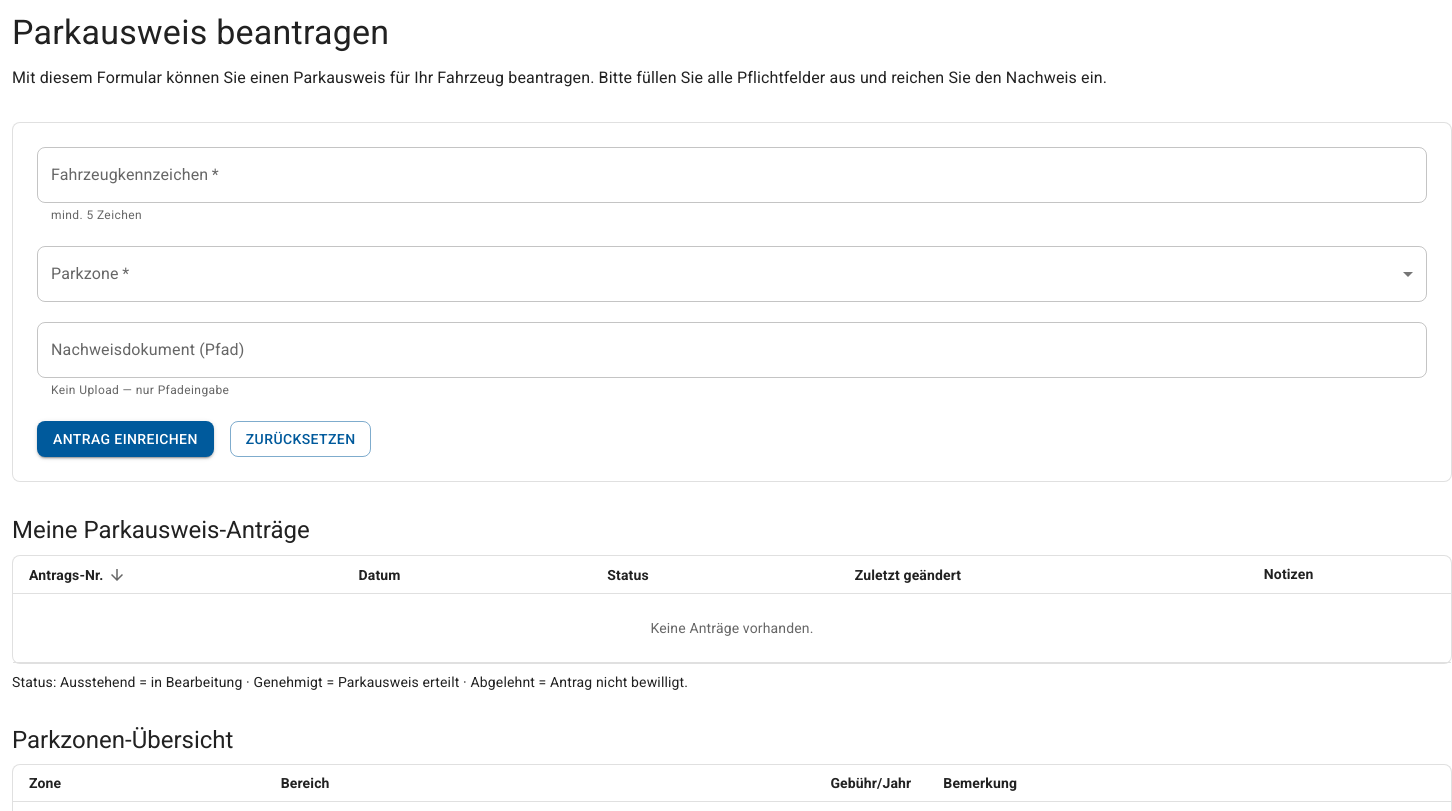
ParkingPermitPage › submits a normalised application and reports the application number
Type " m-ab 123 " into the field labelled "Fahrzeugkennzeichen *" at (732, 175), box [37,147,1427,203]
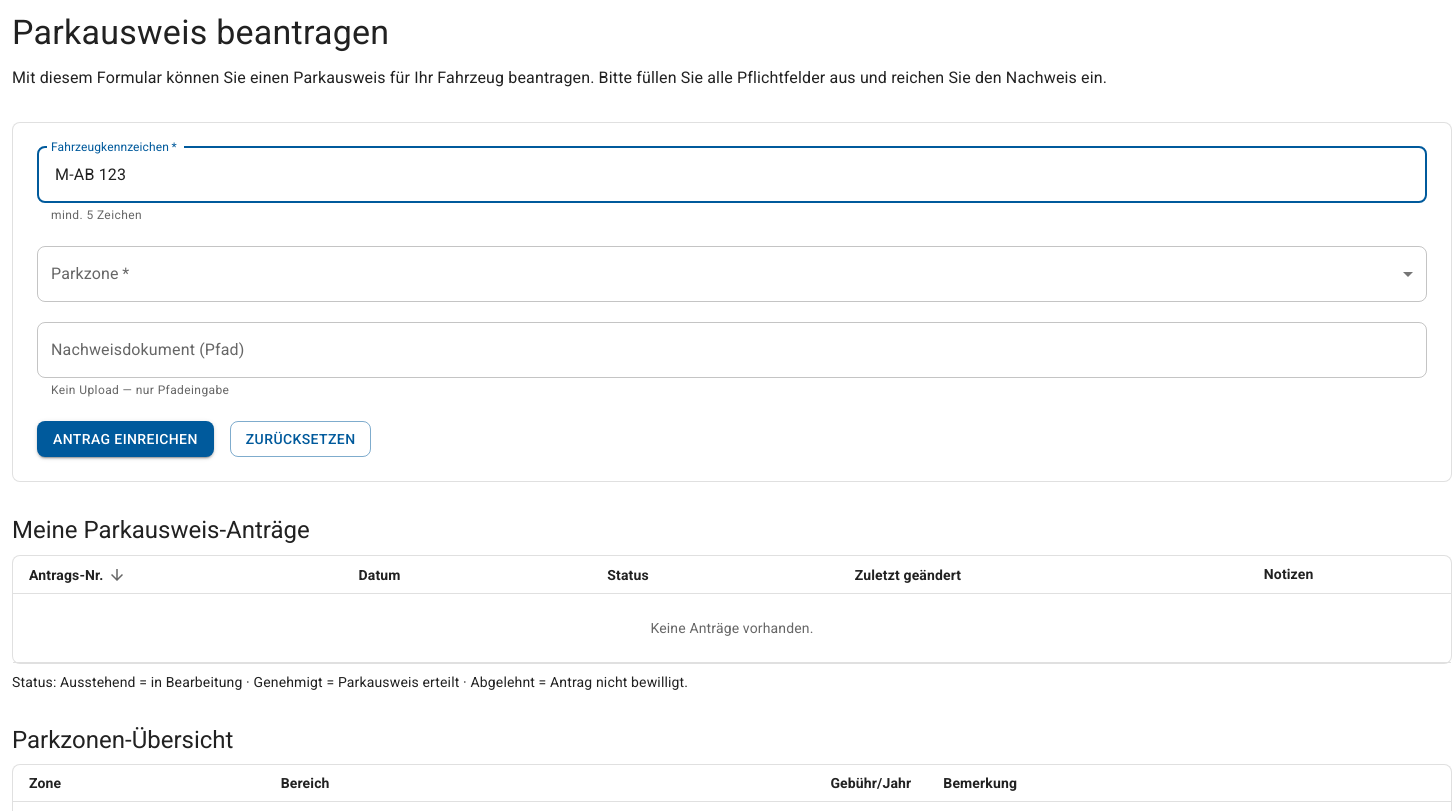
Click the dropdown named "Parkzone" at (732, 274), box [37,246,1427,302]
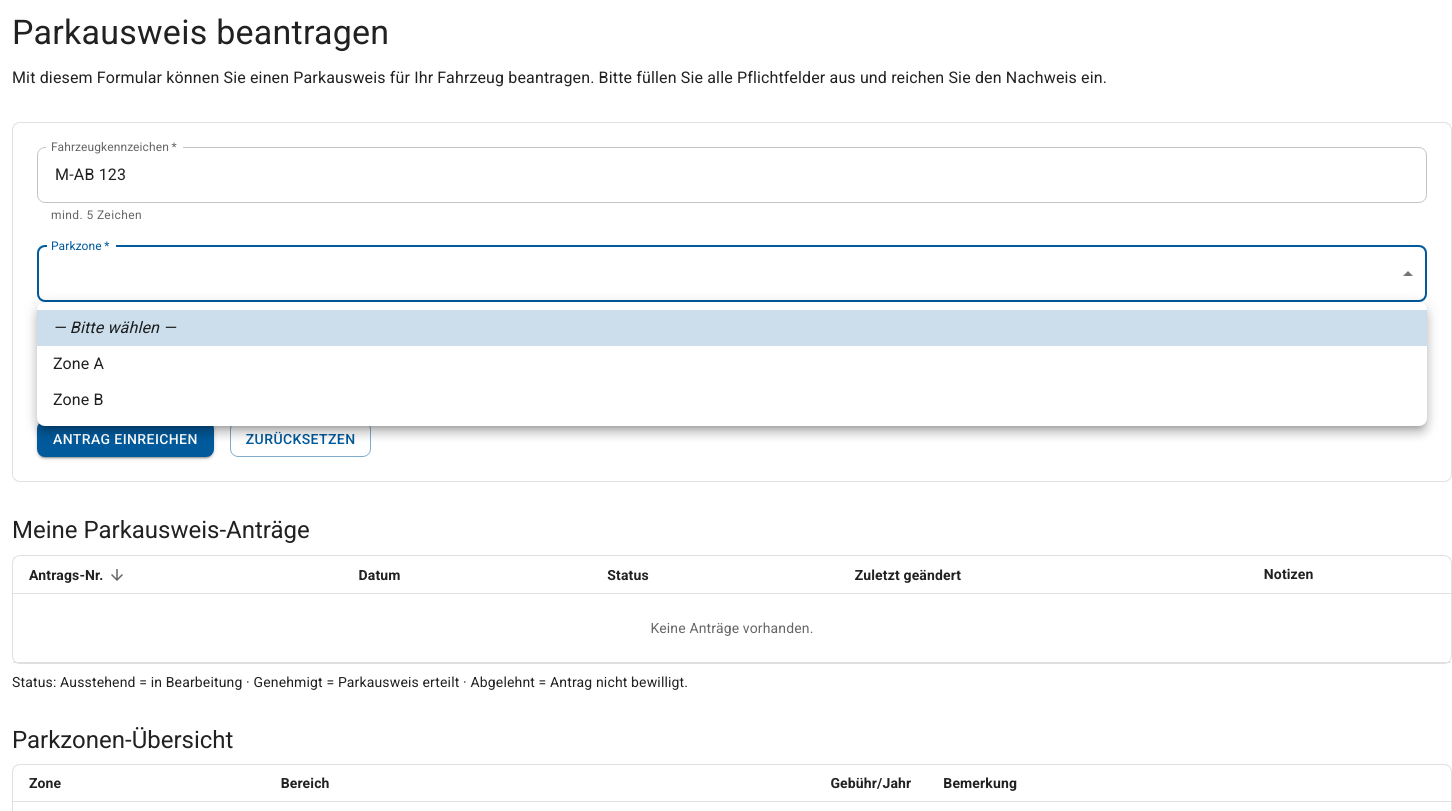
Click the option "Zone B" at (78, 400), box [53,390,104,409]
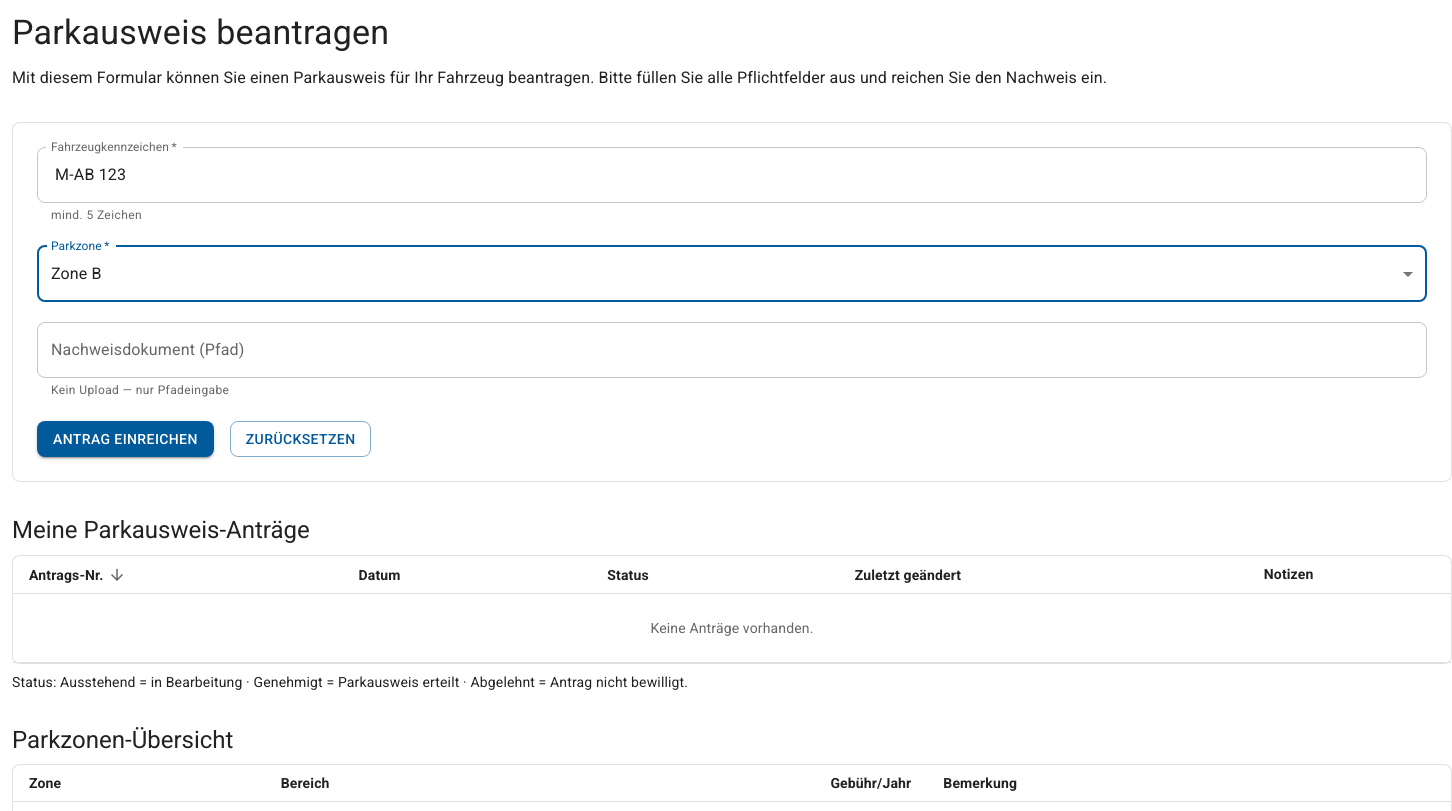
Click the button "Antrag einreichen" at (125, 439), box [37,421,214,457]
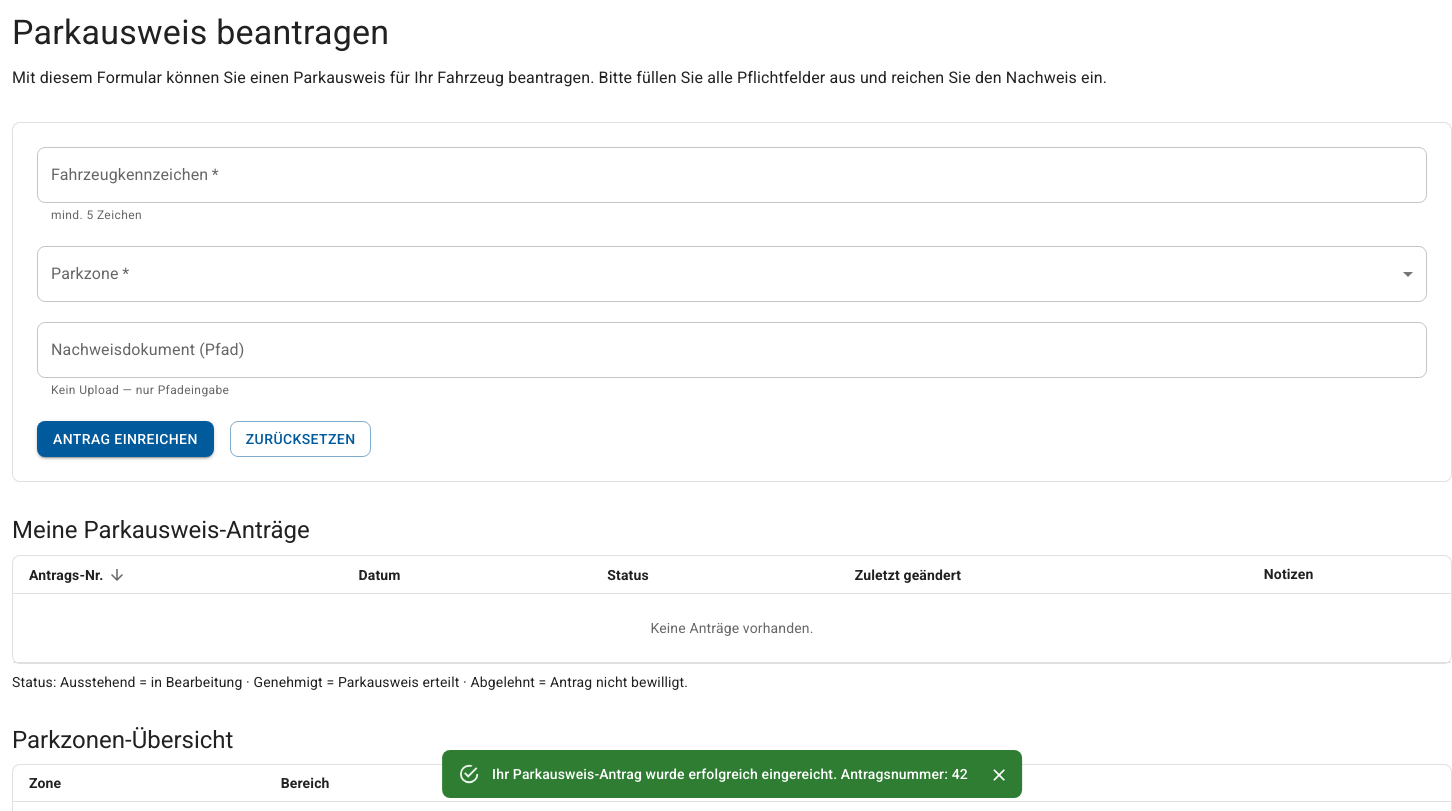
expect the text "Antragsnummer: 42" is shown: met, box [492,766,968,782]
